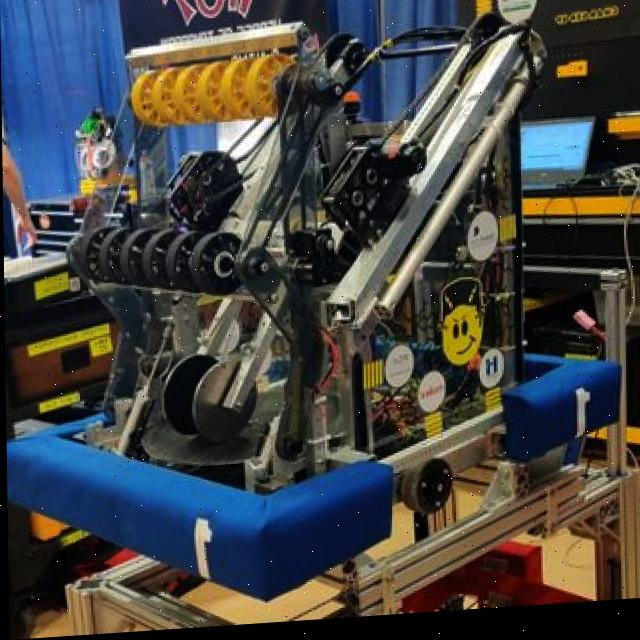robot: (0, 7, 626, 614)
